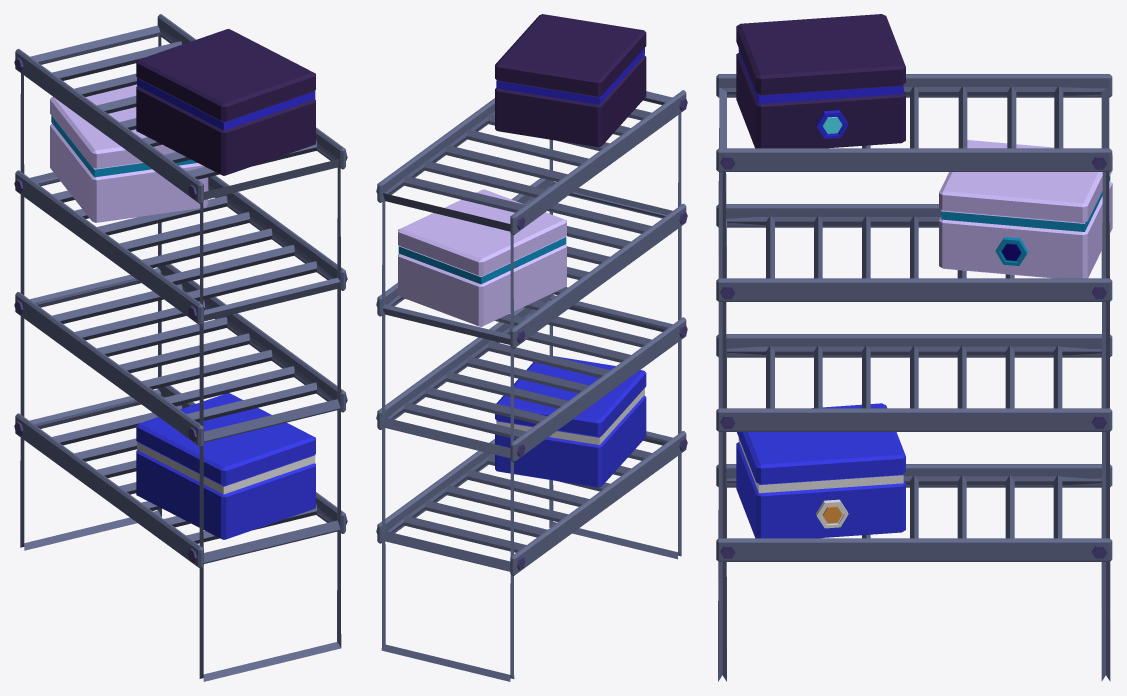
Rendered from шкаф с вещами.fbx.
3 views of the same model, side by side, from view 1: azimuth 30°, elevation 25°; view 2: azimuth 150°, elevation 25°; view 3: azimuth 270°, elevation 25° (orthographic). The views are drawn at different scales.
Parts seen in each view (by area): view 1: Cube, Цилиндр.002, Цилиндр, Куб, Цилиндр.001, Куб.001, Цилиндр.003; view 2: Cube, Цилиндр.002, Цилиндр.001, Куб, Цилиндр, Куб.001, Цилиндр.003; view 3: Куб.001, Cube, Цилиндр.002, Цилиндр, Цилиндр.001, Куб, Цилиндр.003.
Boxes of the visible parts, x1,y1,x2,y2 form: Cube: (20, 25, 341, 681); Цилиндр.002: (136, 29, 315, 175); Цилиндр: (136, 393, 315, 539); Куб: (15, 49, 203, 568); Цилиндр.001: (50, 85, 208, 222); Куб.001: (157, 14, 345, 533); Цилиндр.003: (14, 57, 347, 562); Cube: (381, 91, 681, 681); Цилиндр.002: (495, 14, 646, 147); Цилиндр.001: (398, 189, 566, 326); Куб: (510, 90, 686, 575); Цилиндр: (495, 355, 646, 487); Куб.001: (377, 98, 553, 543); Цилиндр.003: (376, 98, 687, 570); Куб.001: (716, 148, 1112, 561); Cube: (718, 85, 1110, 681); Цилиндр.002: (736, 14, 905, 148); Цилиндр: (736, 403, 905, 538); Цилиндр.001: (939, 140, 1112, 278); Куб: (716, 74, 1112, 487); Цилиндр.003: (720, 156, 1106, 558).
Bounding box in the file's own units: 222 × 783 × 467.
